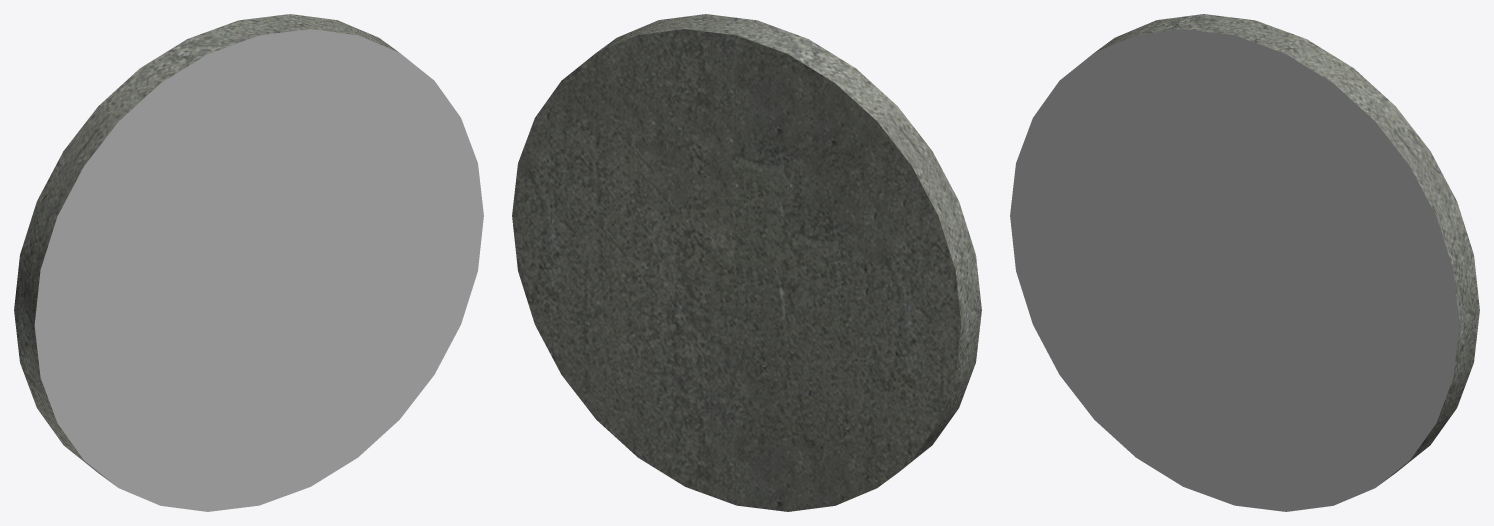
File: DT_Sign_04.fbx
3 views of the same model, side by side, from view 1: azimuth 30°, elevation 25°; view 2: azimuth 150°, elevation 25°; view 3: azimuth 330°, elevation 25° (orthographic).
Visible parts, largest first — view 1: DT_Sign_04; view 2: DT_Sign_04; view 3: DT_Sign_04.
Part boxes in pixels (left/top/right/bottom): DT_Sign_04: left=14, top=14, right=483, bottom=511; DT_Sign_04: left=512, top=14, right=981, bottom=511; DT_Sign_04: left=1010, top=14, right=1479, bottom=511.
Size of the model in its own units: 126 by 126 by 10.
